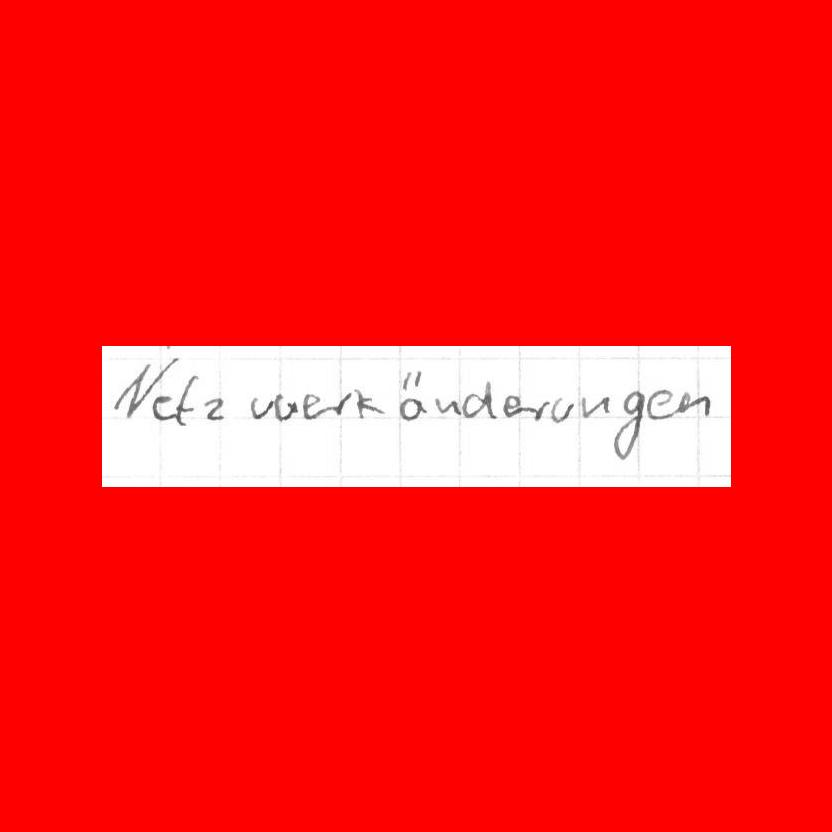Char: (111, 357, 166, 419), (609, 386, 646, 461), (396, 366, 425, 423), (168, 377, 201, 425), (460, 377, 495, 419), (675, 390, 710, 419), (646, 388, 673, 421), (356, 390, 385, 419), (274, 391, 298, 424), (329, 391, 356, 418), (580, 394, 610, 418), (501, 392, 525, 420), (301, 392, 324, 420), (432, 394, 460, 416), (249, 396, 274, 420), (202, 395, 225, 421), (553, 395, 575, 422), (530, 398, 553, 421)
